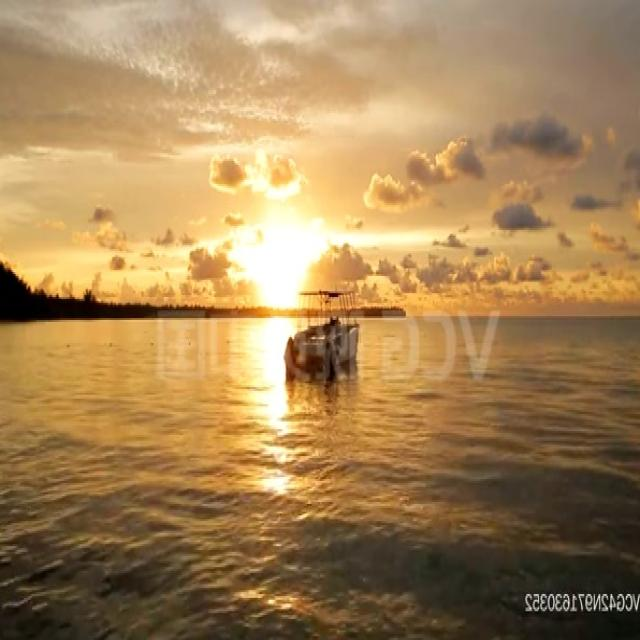houseboat: (285, 284, 359, 384)
